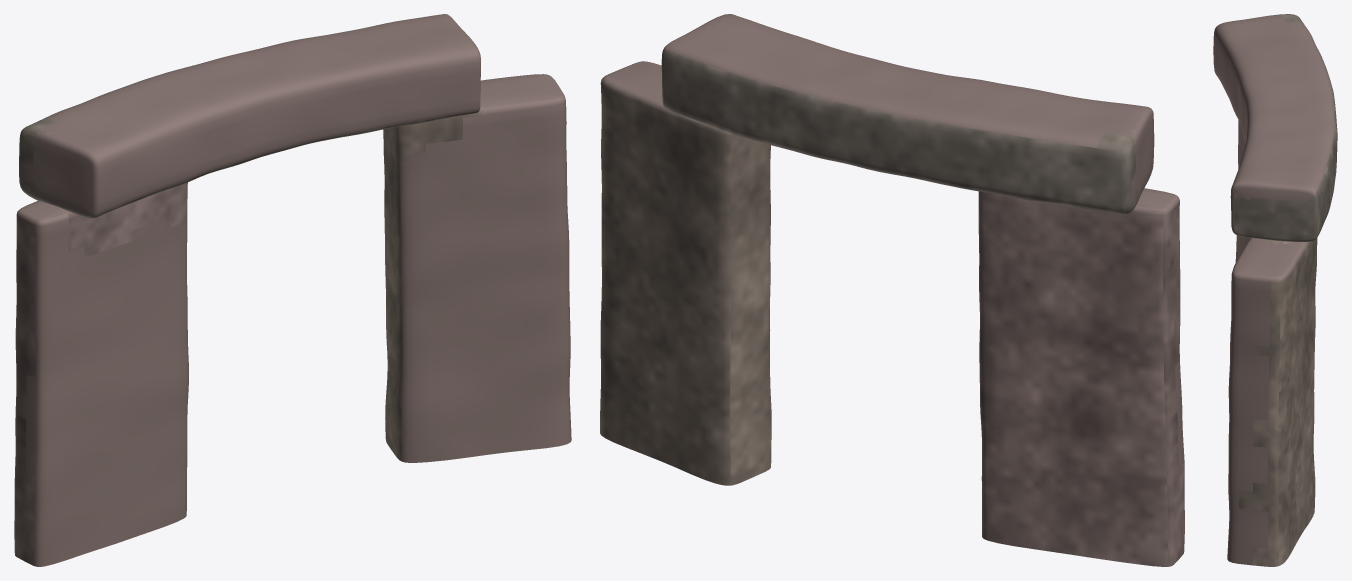
File: VerHenge02.glb
3 renders of one model, left to right at view 1: azimuth 30°, elevation 25°; view 2: azimuth 150°, elevation 25°; view 3: azimuth 270°, elevation 25°, orthographic. The views are drawn at different scales.
Parts seen in each view (by area): view 1: VerHenge02; view 2: VerHenge02; view 3: VerHenge02.
Boxes of the visible parts, x1,y1,x2,y2 form: VerHenge02: [14, 14, 571, 566]; VerHenge02: [600, 14, 1184, 566]; VerHenge02: [1213, 14, 1337, 566].
Bounding box in the file's own units: 5.2 × 3.76 × 1.23.
Materials: 2 (1 with a texture image).
